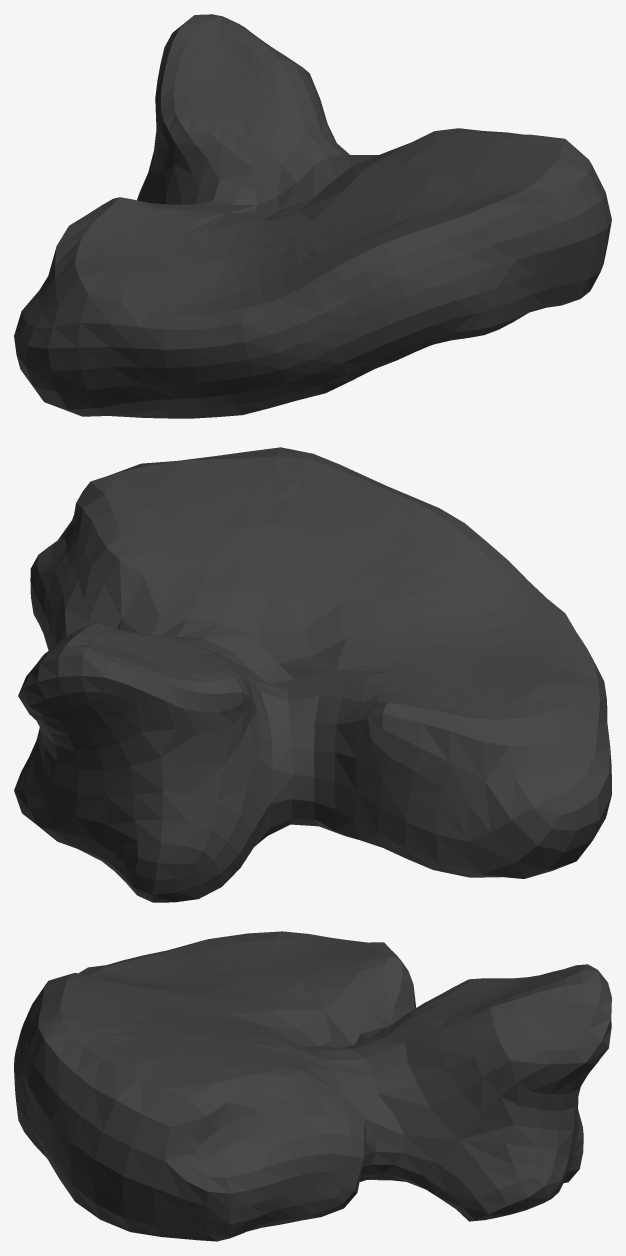
File: Third_tarsal.glb
3 renders of one model, top to bottom at view 1: azimuth 30°, elevation 25°; view 2: azimuth 150°, elevation 25°; view 3: azimuth 270°, elevation 25°, orthographic. The views are drawn at different scales.
Visible parts, largest first — view 1: Third_tarsal; view 2: Third_tarsal; view 3: Third_tarsal.
Boxes of the visible parts, x1,y1,x2,y2 form: Third_tarsal: (14, 14, 611, 418); Third_tarsal: (14, 447, 611, 902); Third_tarsal: (14, 931, 611, 1241).
Bounding box in the file's own units: 124 × 50.92 × 112.
Materials: 1 (1 with a texture image).
